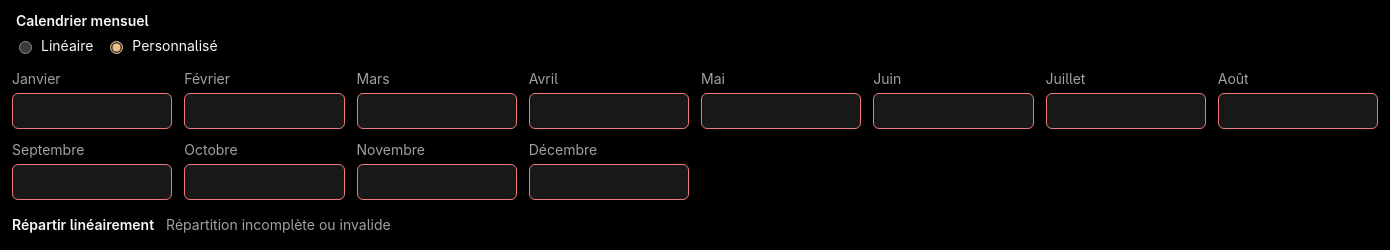
GoalScheduleEditor › fills the twelve fields from the backend preview instead of dividing client-side
Click the button "Répartir linéairement": coordinates (83, 224) [12,216,154,233]
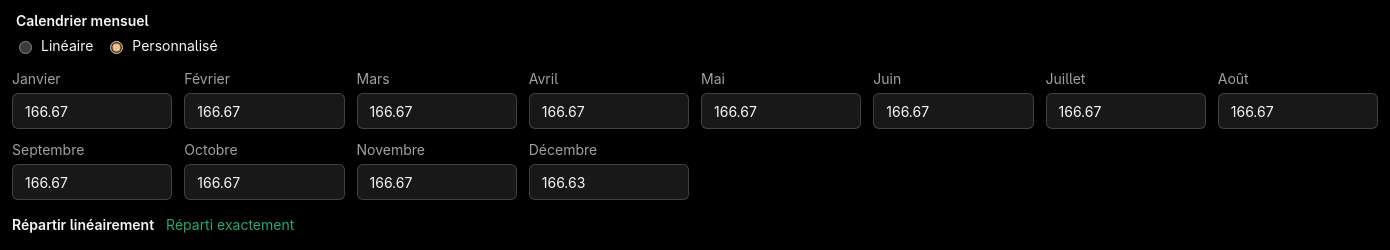
Check: the field named "Montant de janvier" holds "166.67", box [12,93,172,129]
Check: the field named "Montant de décembre" holds "166.63", box [529,164,689,200]
